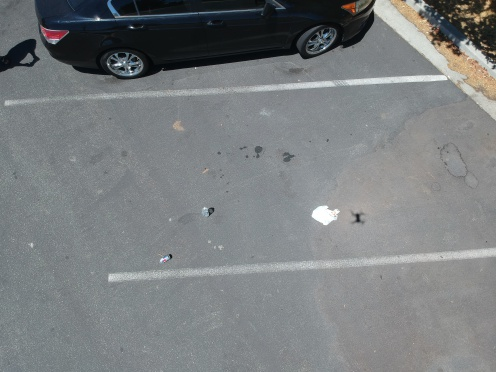bottle: (199, 203, 216, 221)
can: (157, 253, 172, 264)
plastic bag: (303, 201, 347, 229)
